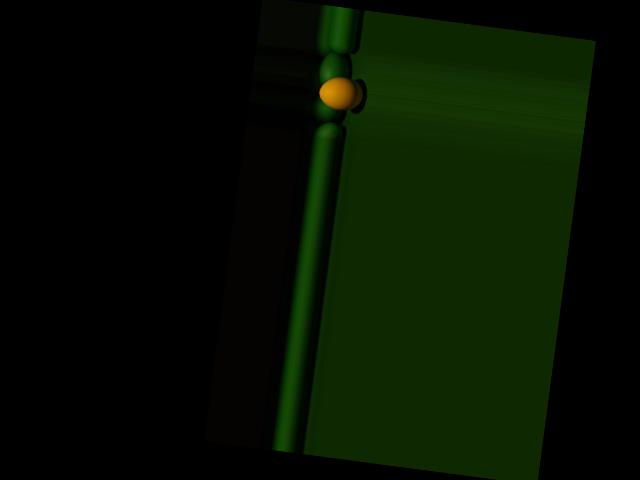egg: (318, 74, 365, 112)
